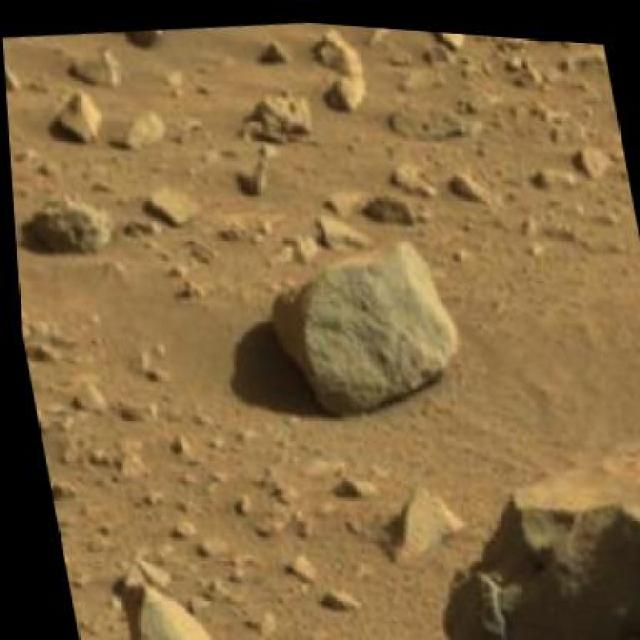rock: (337, 332, 638, 638), (250, 222, 467, 427), (80, 560, 215, 638), (46, 86, 105, 152)
